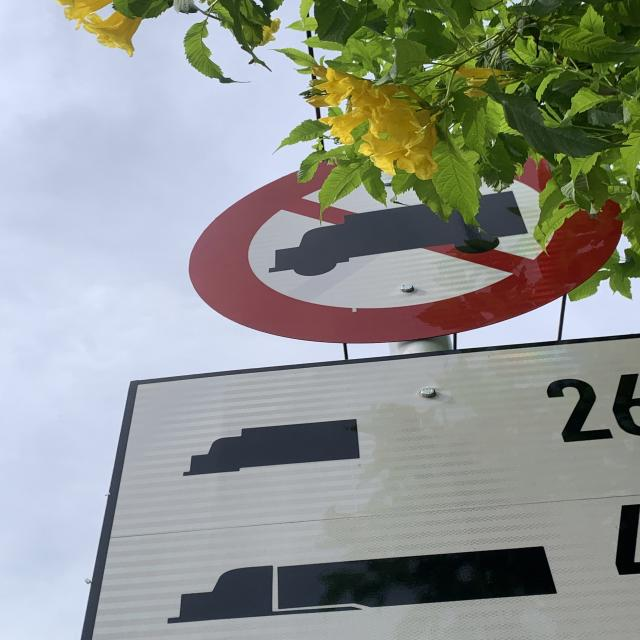Cam_Xe_Tai: (186, 147, 626, 345)
